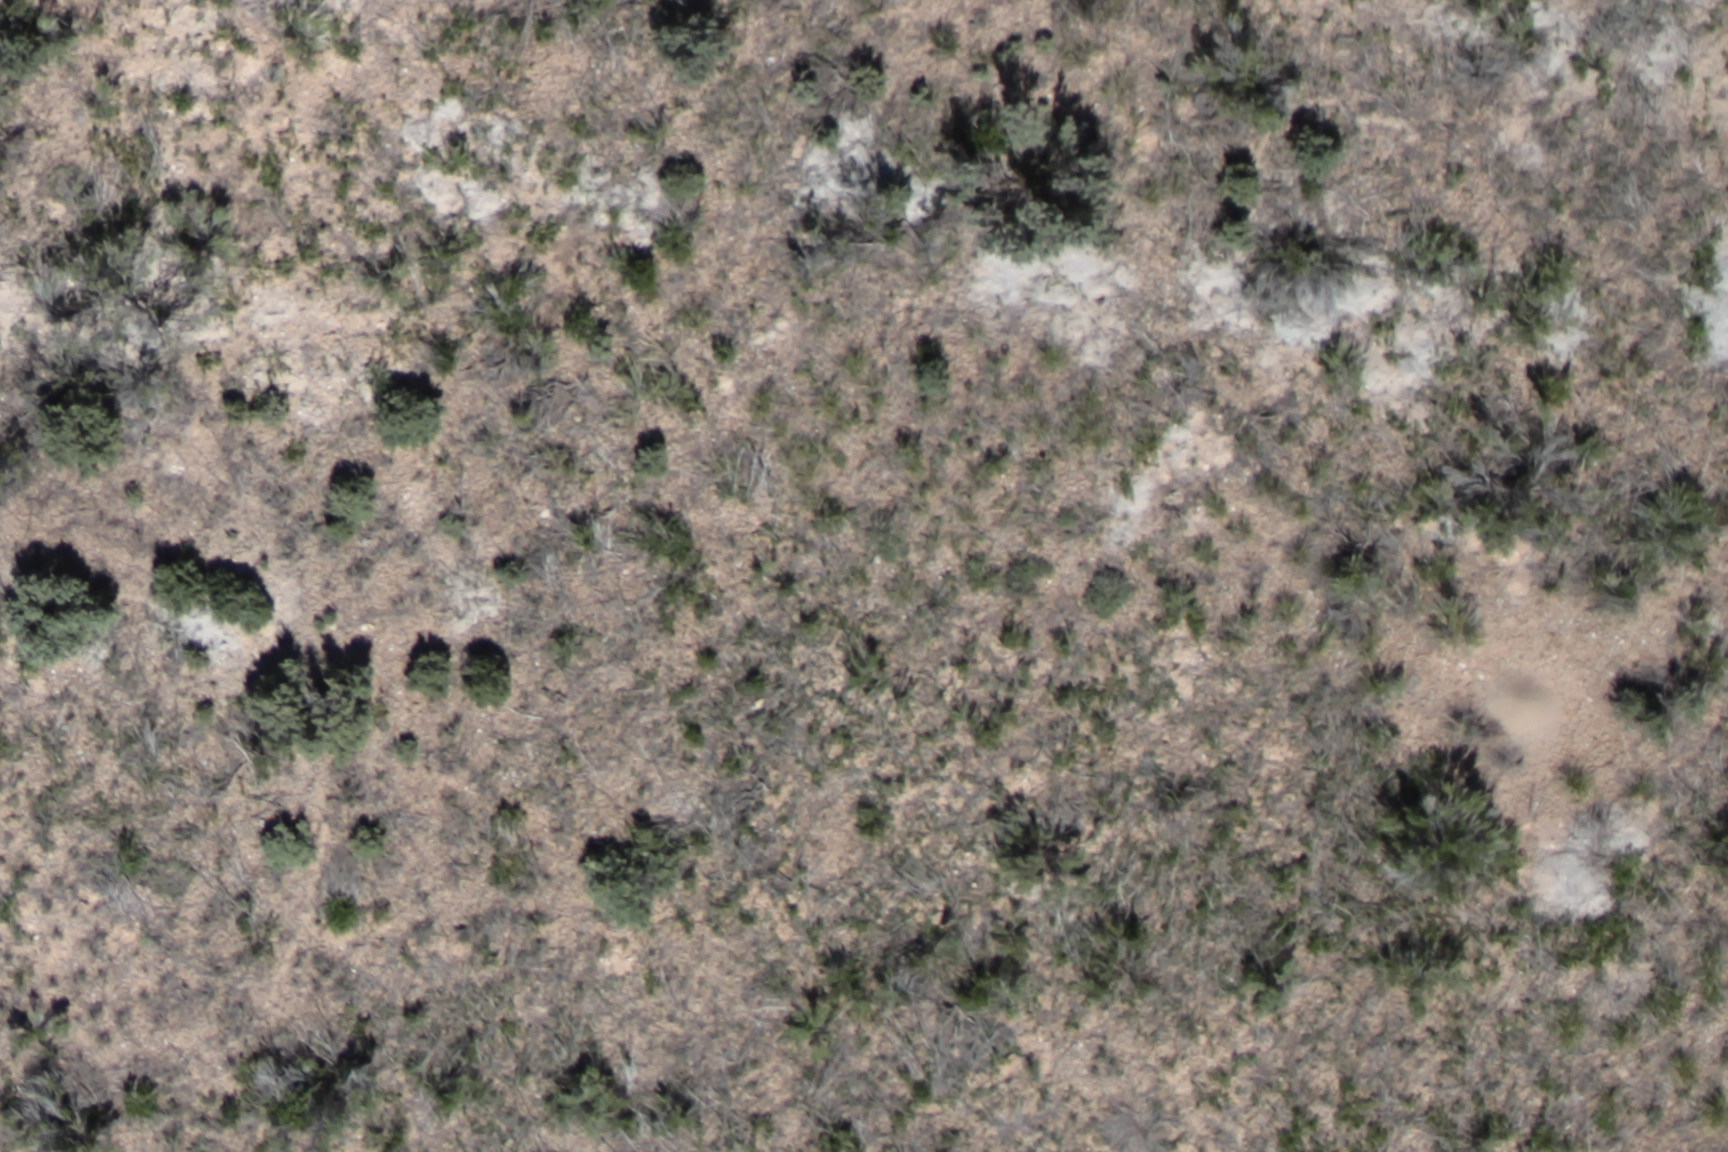burrow: (1452, 656, 1572, 768)
